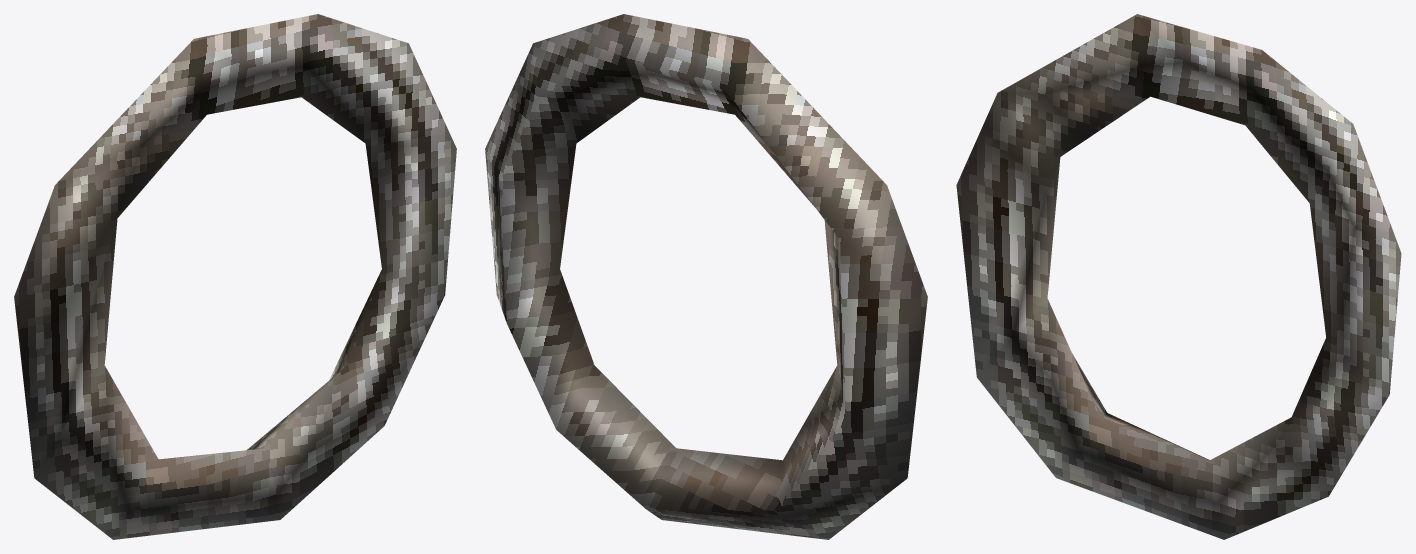
Rendered from rope1.glb.
The picture shows the model from 3 angles, left to right: view 1: azimuth 30°, elevation 25°; view 2: azimuth 150°, elevation 25°; view 3: azimuth 330°, elevation 25°; orthographic projection.
Parts seen in each view (by area): view 1: rope1; view 2: rope1; view 3: rope1.
Part boxes in pixels (box(x1,y1,x2,y2)): rope1: box(14, 14, 456, 539); rope1: box(485, 14, 927, 539); rope1: box(956, 14, 1401, 539).
Size of the model in its own units: 0.4189 by 0.4539 by 0.0524.
Materials: 1 (1 with a texture image).
